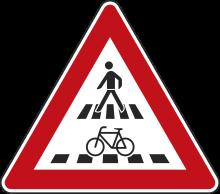Cycle Crossing: (14, 10, 203, 183)
